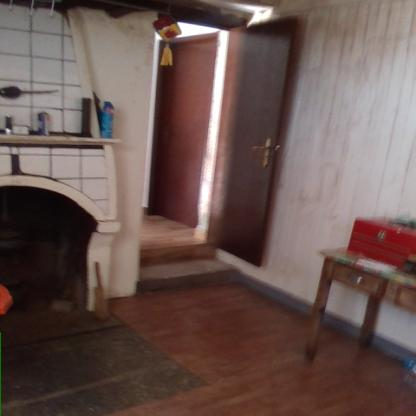open: (137, 6, 331, 282)
